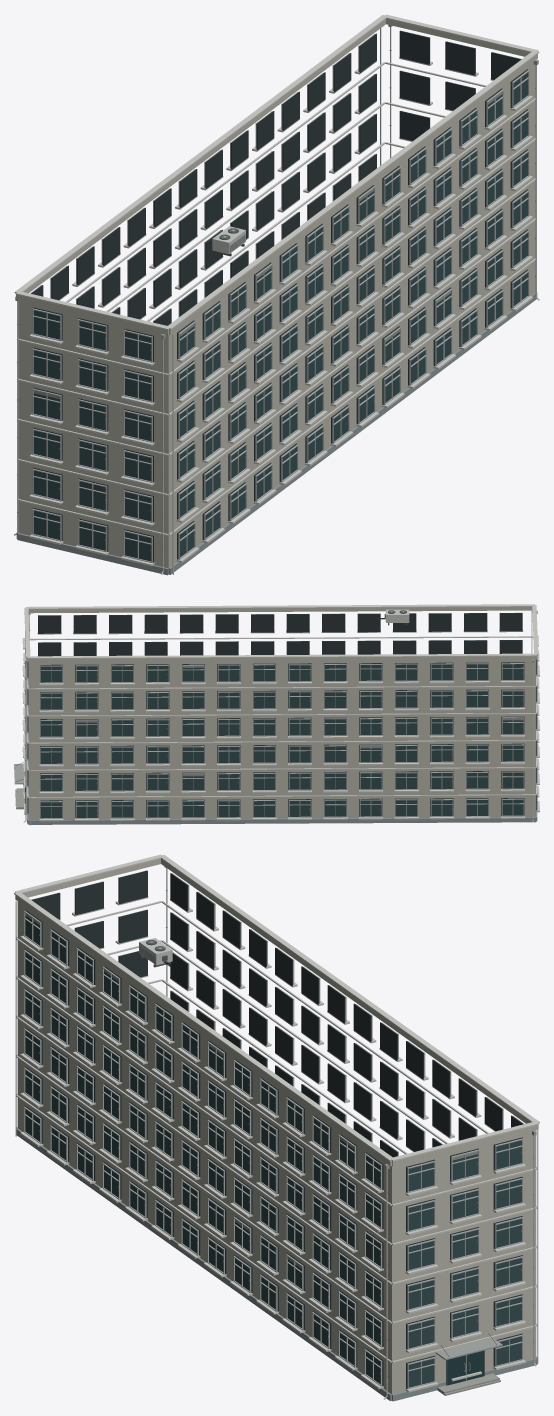
The model's file is osm_way_225265348.glb.
3 views of the same model, one above another, from view 1: azimuth 30°, elevation 25°; view 2: azimuth 150°, elevation 25°; view 3: azimuth 270°, elevation 25° (orthographic). The views are drawn at different scales.
Parts seen in each view (by area): view 1: Windows and facade details | osm_way_225265348, Architecture | osm_way_225265348, Roof services | osm_way_225265348, EXTERIOR::osm_way_225265348::rainwater and roof service deta; view 2: Windows and facade details | osm_way_225265348, Architecture | osm_way_225265348, Roof services | osm_way_225265348, EXTERIOR::osm_way_225265348::rainwater and roof service deta, EXTERIOR::osm_way_225265348::inferred entry doors canopy and, EXTERIOR::osm_way_225265348::native pane seals and hardware; view 3: Windows and facade details | osm_way_225265348, Architecture | osm_way_225265348, Roof services | osm_way_225265348, EXTERIOR::osm_way_225265348::inferred entry doors canopy and, EXTERIOR::osm_way_225265348::rainwater and roof service deta.
Part boxes in pixels (x1,y1,x2,y2): Windows and facade details | osm_way_225265348: (29, 28, 532, 574); Architecture | osm_way_225265348: (16, 19, 537, 575); Roof services | osm_way_225265348: (14, 14, 539, 330); EXTERIOR::osm_way_225265348::rainwater and roof service deta: (14, 25, 539, 574); Windows and facade details | osm_way_225265348: (22, 611, 539, 825); Architecture | osm_way_225265348: (27, 607, 537, 824); Roof services | osm_way_225265348: (24, 604, 538, 658); EXTERIOR::osm_way_225265348::rainwater and roof service deta: (23, 609, 538, 822); EXTERIOR::osm_way_225265348::inferred entry doors canopy and: (14, 762, 25, 809); EXTERIOR::osm_way_225265348::native pane seals and hardware: (76, 665, 523, 810); Windows and facade details | osm_way_225265348: (15, 870, 538, 1392); Architecture | osm_way_225265348: (15, 859, 538, 1401); Roof services | osm_way_225265348: (14, 854, 539, 1161); EXTERIOR::osm_way_225265348::inferred entry doors canopy and: (435, 1333, 502, 1395); EXTERIOR::osm_way_225265348::rainwater and roof service deta: (139, 866, 536, 1399).
Size of the model in its own units: 53.56 by 20.58 by 38.9.
